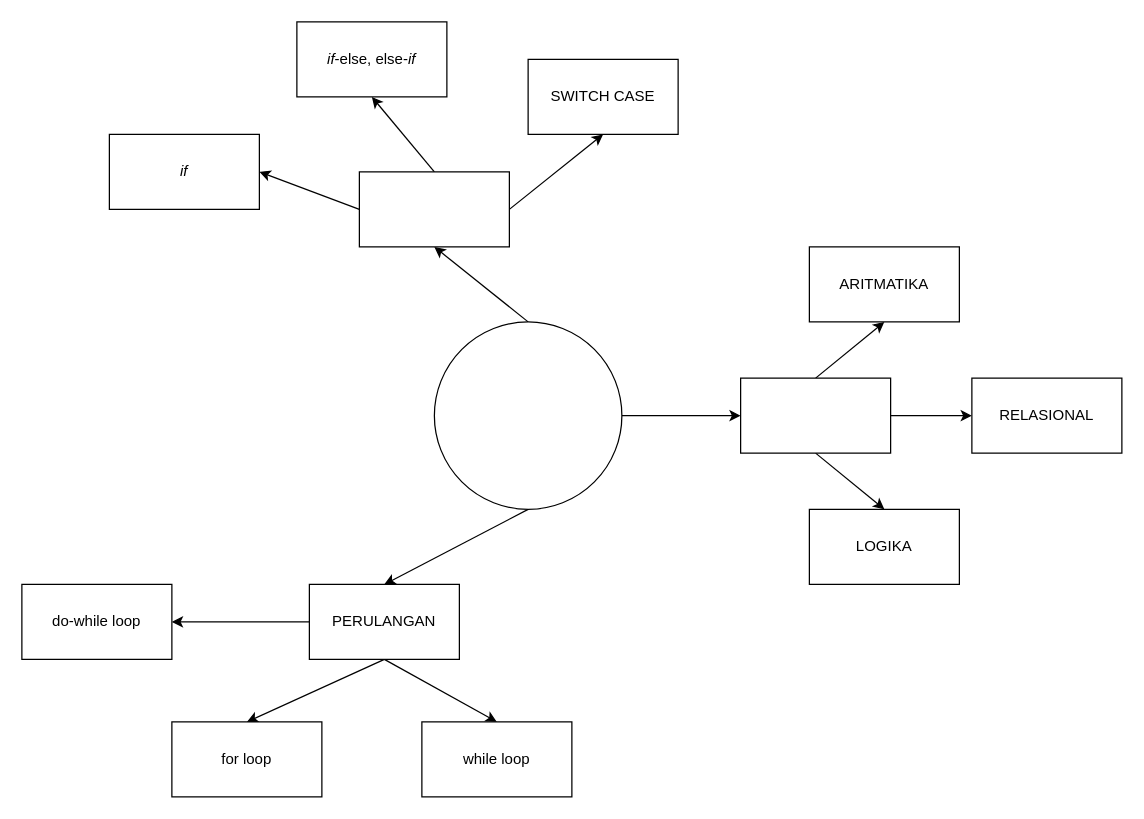
Image size: 1144x819. Some labels were removed from this diagram. Each missing label, with the centre of its shape:
"DASAR PEMROGRAMAN JAVA" belongs at point 527,415.
"KONDISI" belongs at point 433,209.
"OPERATOR" belongs at point 815,415.
